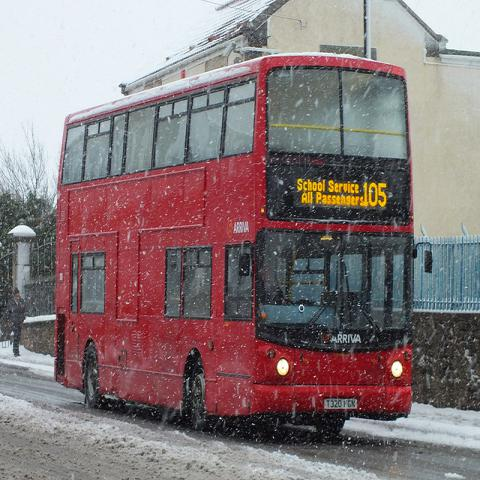bus: (53, 54, 434, 442)
